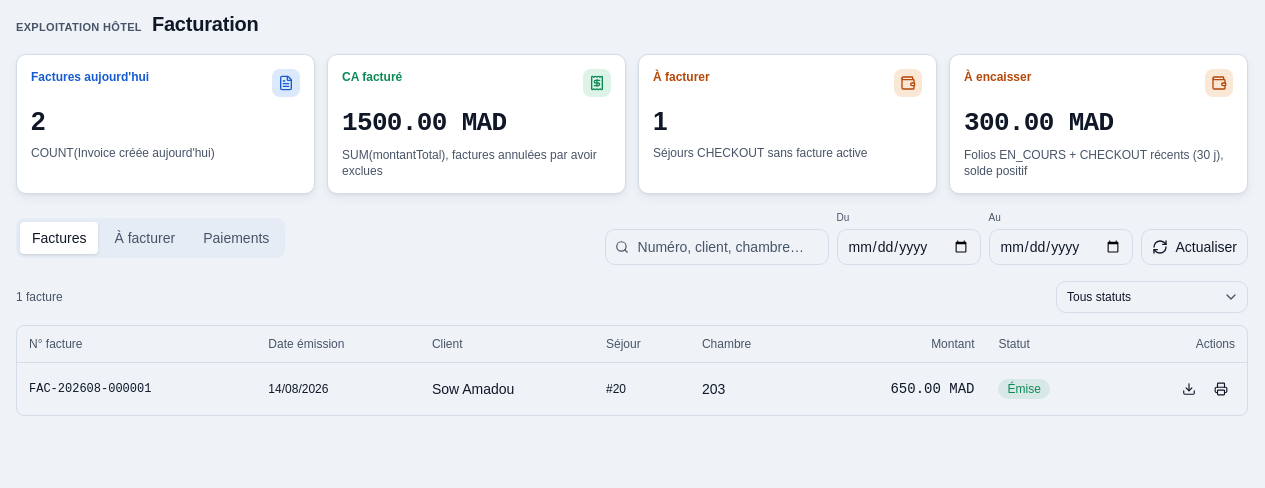
Test case: BillingPage — onglets, KPI, recherche, RBAC › filtre les factures via la recherche (client)
Expected: the text "FAC-202608-000001" is shown, [17,362,256,414]
Step 1. Type "inexistant" into the field named "Recherche" → (716, 247), box [604,229,828,265]
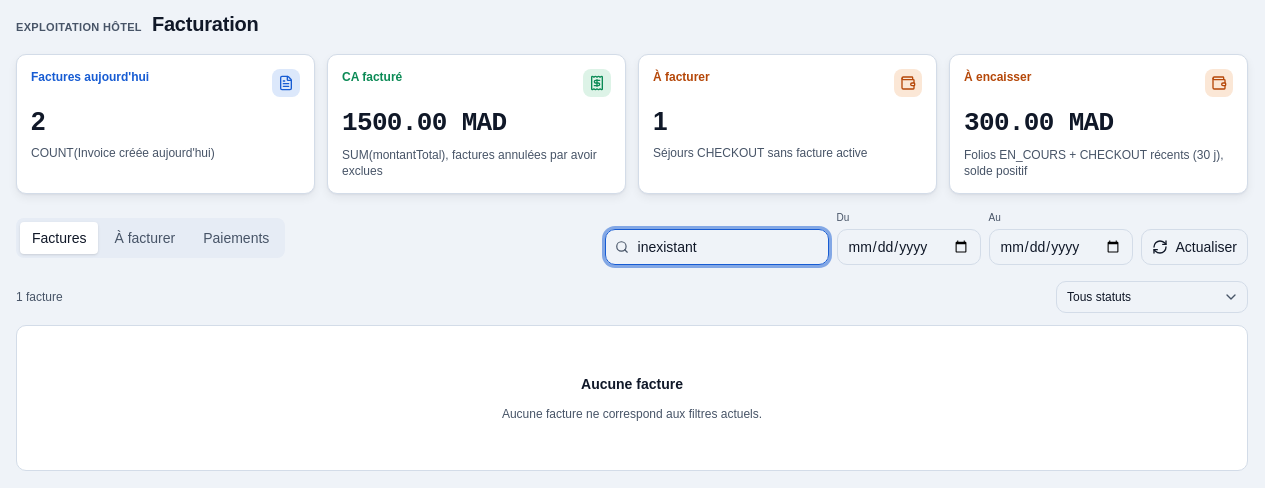
Expected: the text "FAC-202608-000001" is gone
